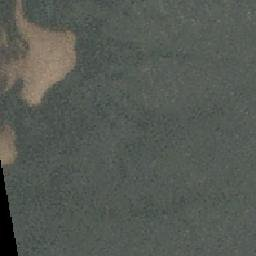debris: (1, 2, 76, 104), (1, 120, 17, 166)
